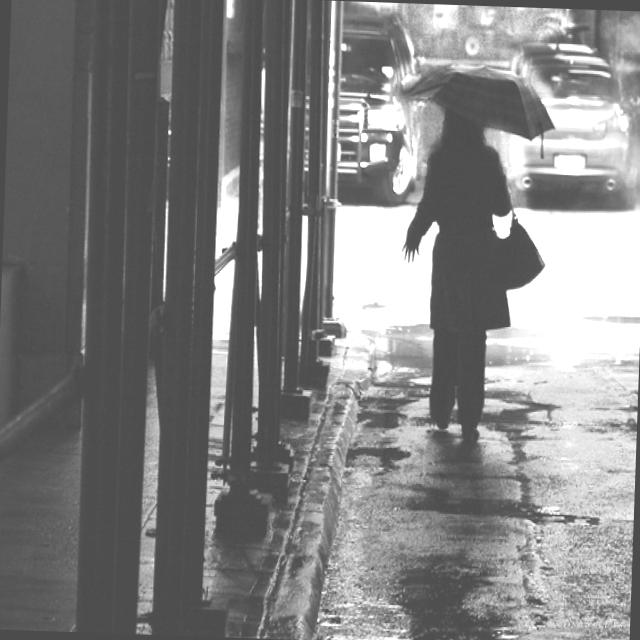Vehicle: (503, 66, 633, 210), (334, 3, 428, 200), (522, 40, 612, 72)
